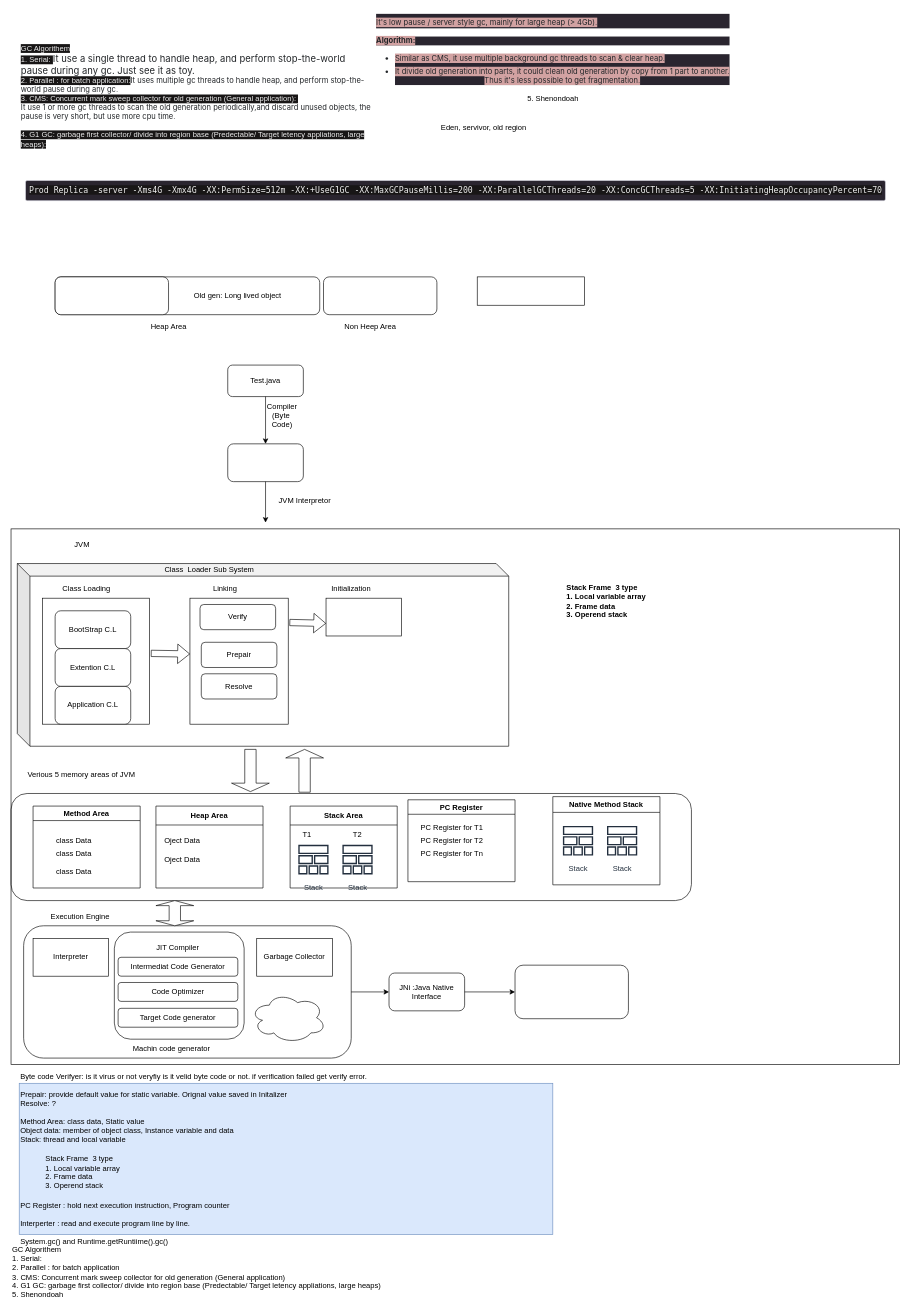
Image size: 910x1314. Some labels were removed from this diagram. Here are the shapes that lost their labels. From the top down, the centre of each, then its label:
(x=111, y=295): Youn Gen: New Object
(x=380, y=295): Perm Gen
(x=530, y=290): MetaSpace: is part of Native memory.
(x=265, y=462): Test.class
(x=363, y=617): Initailazater
(x=571, y=992): Native Method Libraries Native lib like window, linex, Mac dependent
(x=288, y=1017): Profiler
